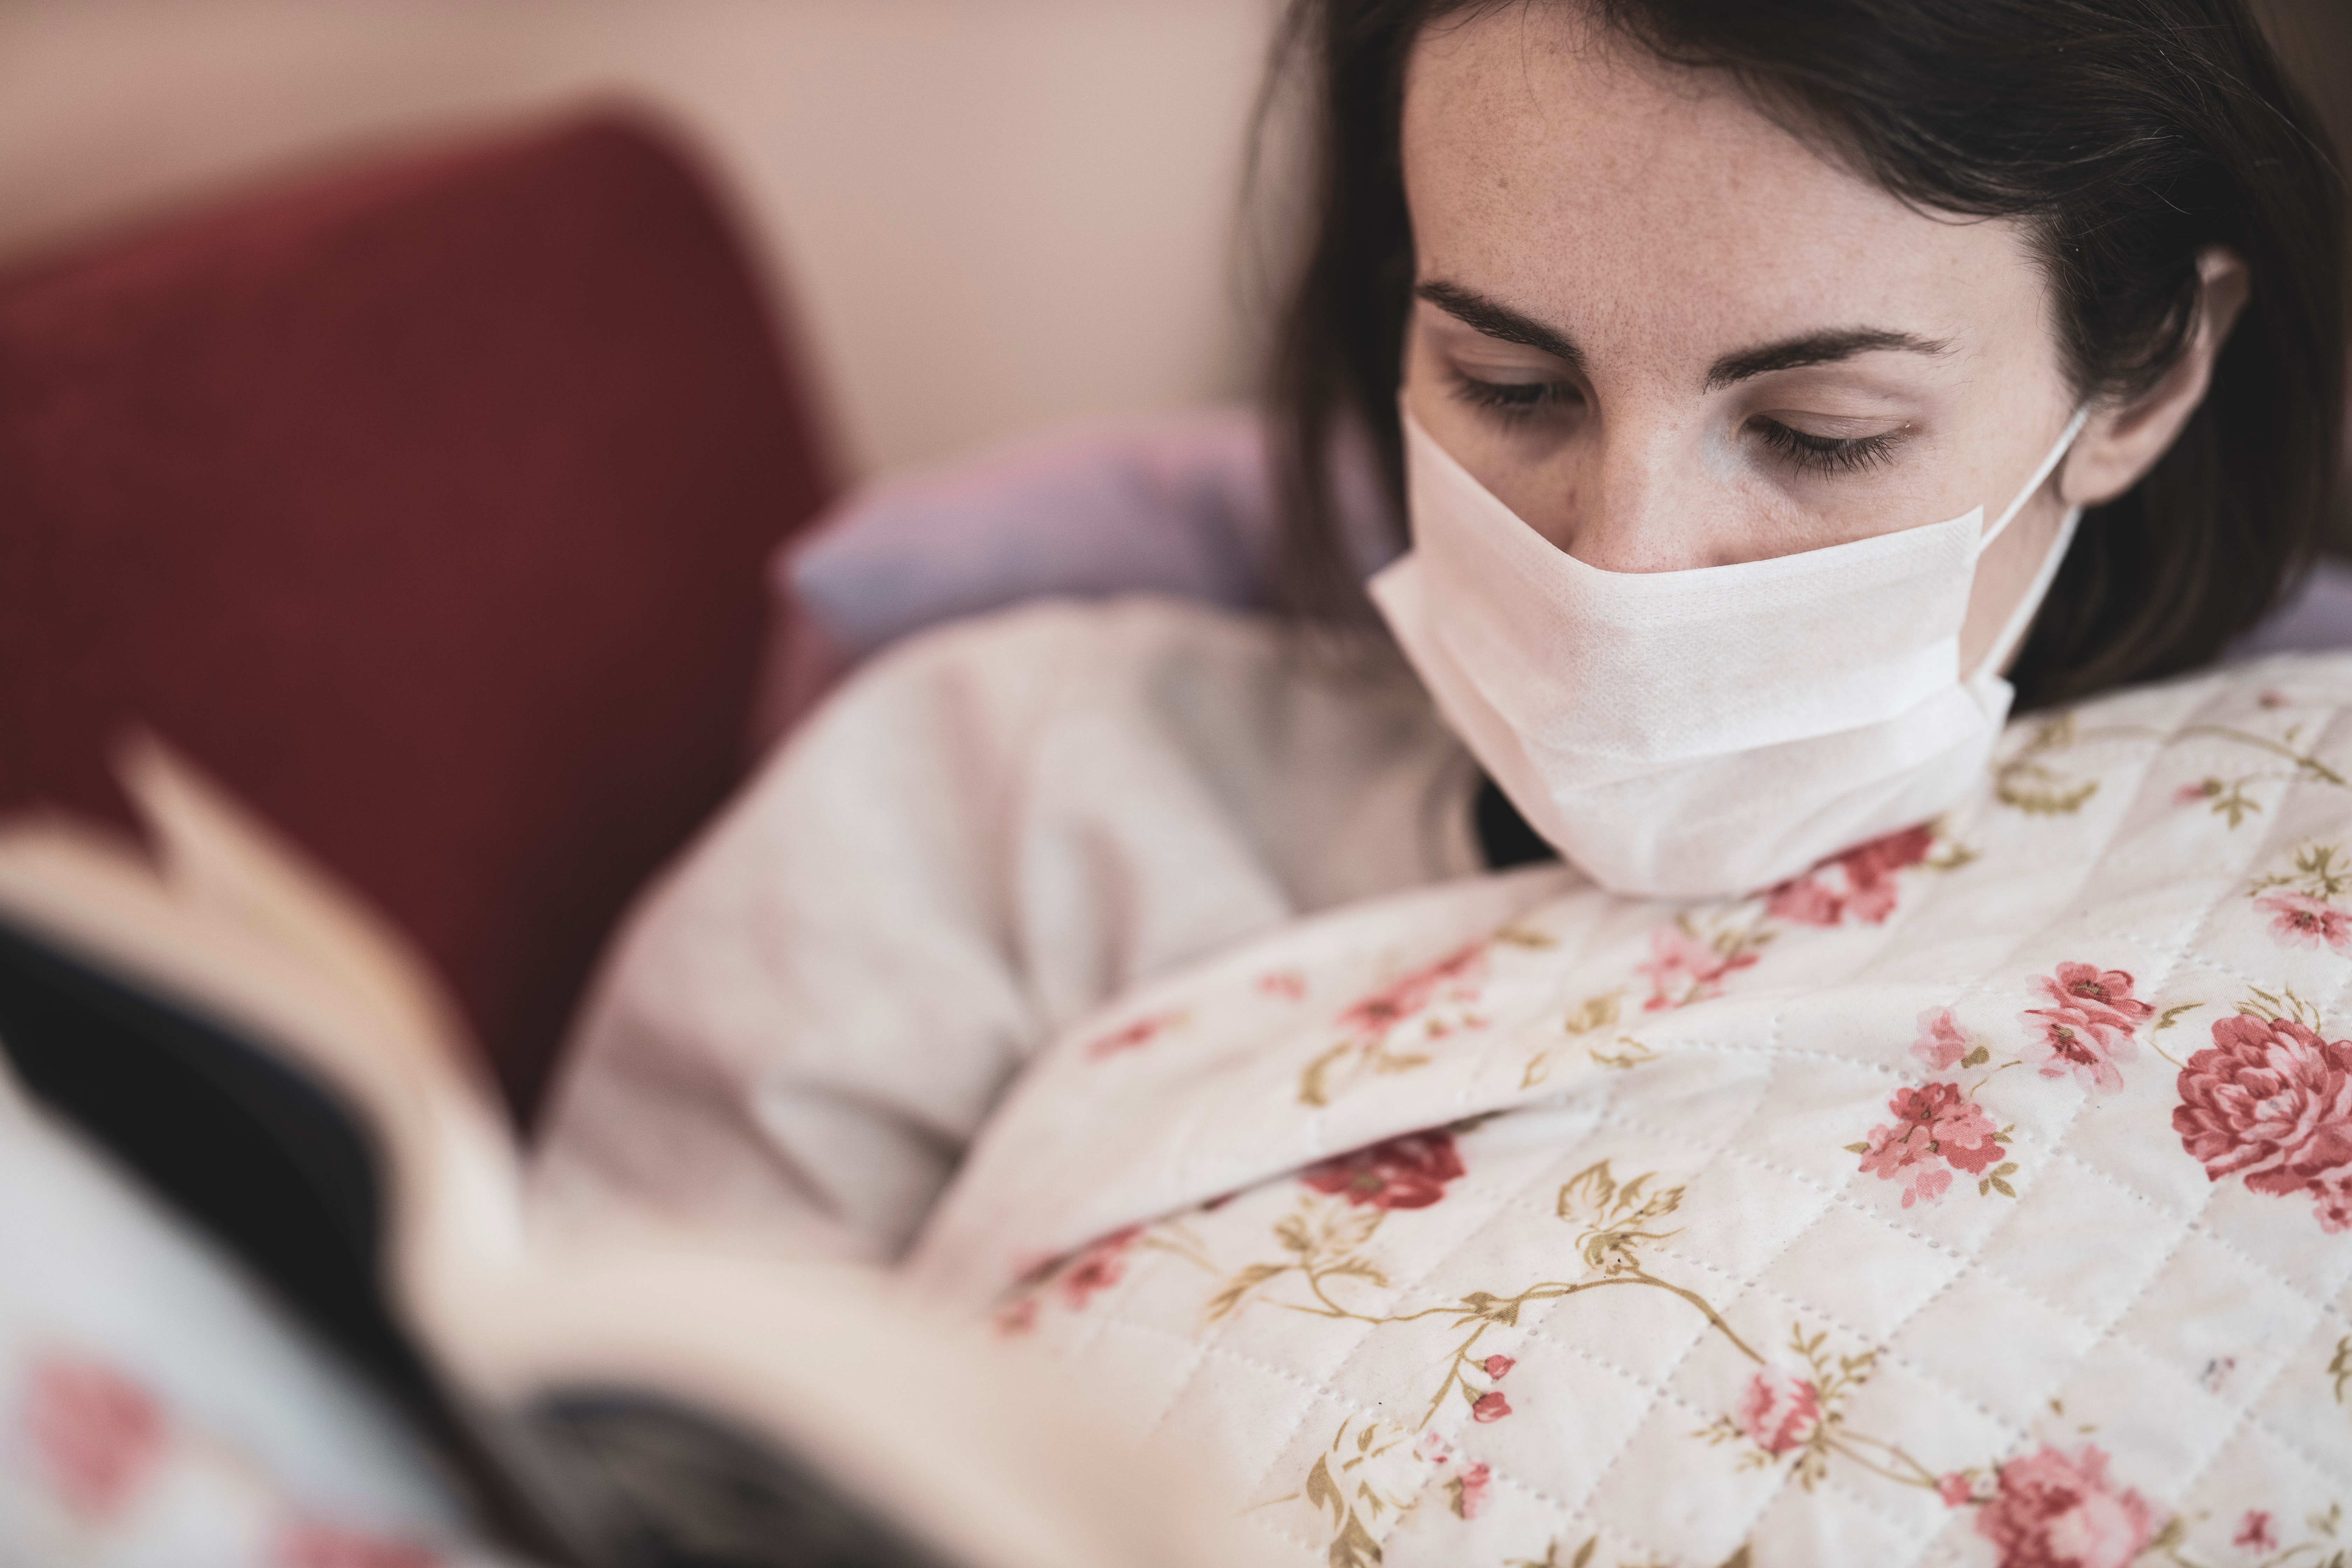mask: (1330, 377, 2124, 925)
person: (569, 11, 2341, 1268)
